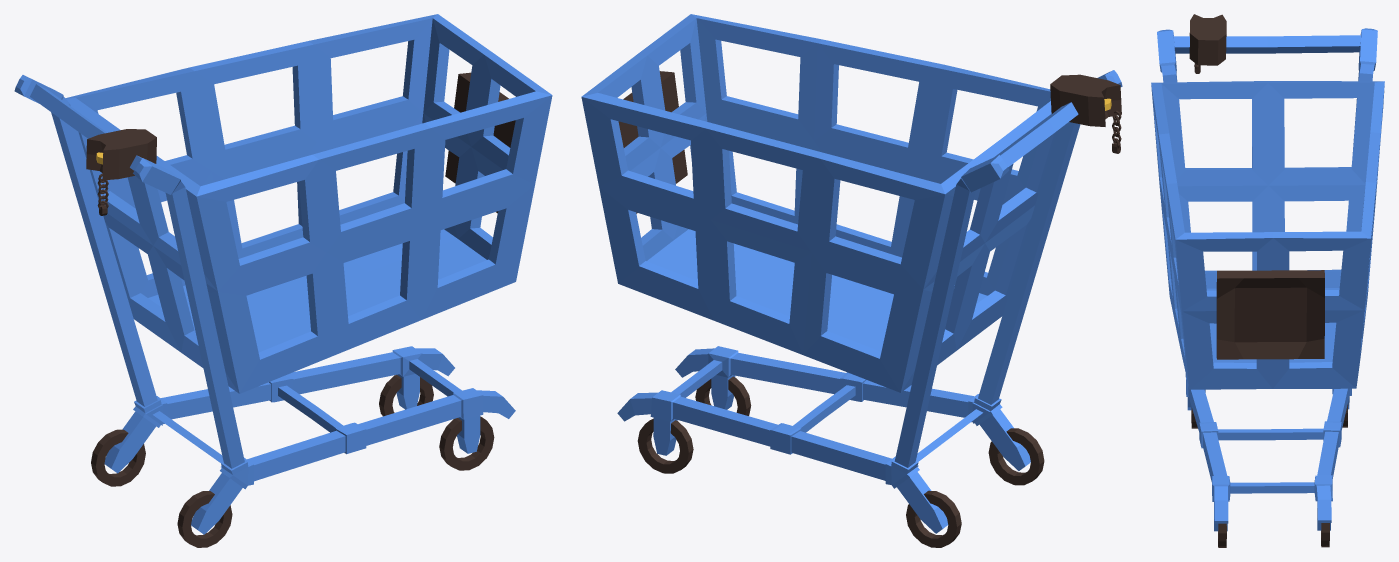
The model's file is cart_Blue.fbx.
3 renders of one model, left to right at view 1: azimuth 30°, elevation 25°; view 2: azimuth 150°, elevation 25°; view 3: azimuth 270°, elevation 25°, orthographic. The views are drawn at different scales.
Visible parts, largest first — view 1: Cart, chain_1; view 2: Cart, chain_1; view 3: Cart, chain_1.
Part boxes in pixels (<box>): Cart: <box>14,14,552,534</box>; chain_1: <box>86,72,515,547</box>; Cart: <box>581,14,1122,533</box>; chain_1: <box>618,71,1121,547</box>; Cart: <box>1151,28,1384,531</box>; chain_1: <box>1189,14,1347,547</box>.
Size of the model in its own units: 121 by 109 by 62.35.
1 material, 1 textured.
